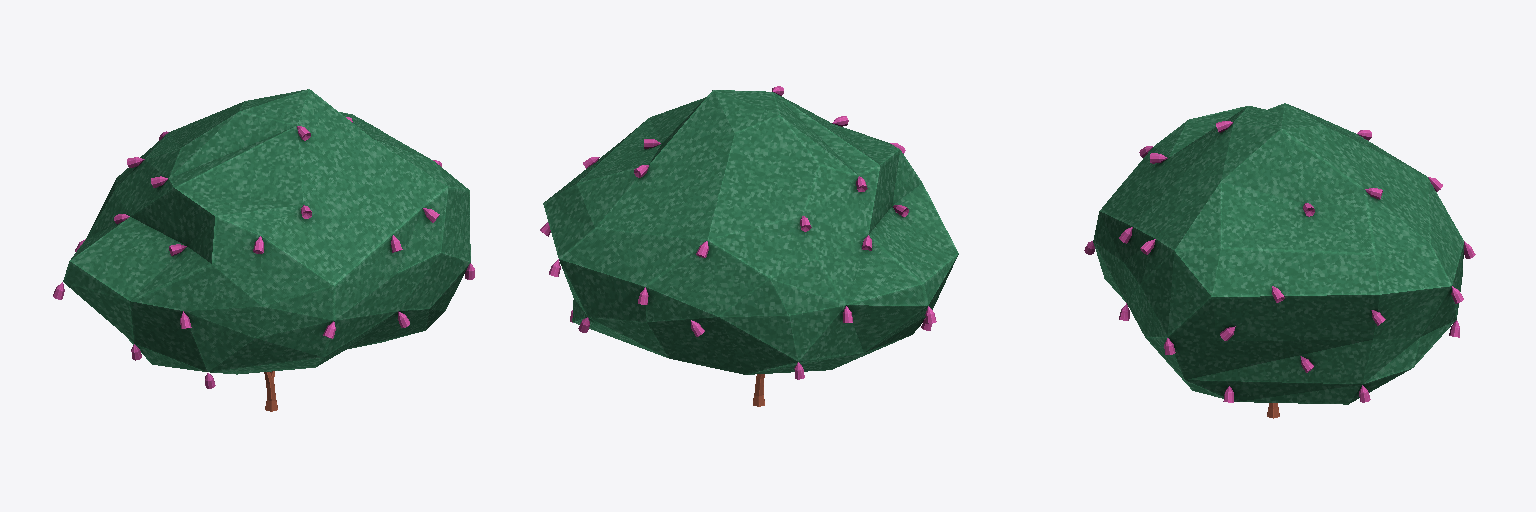
3 renders of one model, left to right at view 1: azimuth 30°, elevation 25°; view 2: azimuth 150°, elevation 25°; view 3: azimuth 270°, elevation 25°, orthographic.
Visible parts, largest first — view 1: polySurface9; view 2: polySurface9; view 3: polySurface9.
Part boxes in pixels (left/top/right/bottom): polySurface9: left=53, top=89, right=474, bottom=411; polySurface9: left=540, top=86, right=958, bottom=406; polySurface9: left=1084, top=103, right=1475, bottom=418.
Bounding box in the file's own units: 14.98 × 11.84 × 13.69.
1 materials, 1 textured.